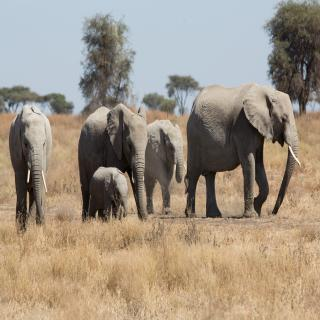Elephant: (184, 81, 306, 216), (74, 99, 148, 218), (8, 103, 53, 236), (143, 113, 185, 220), (87, 164, 131, 223)
